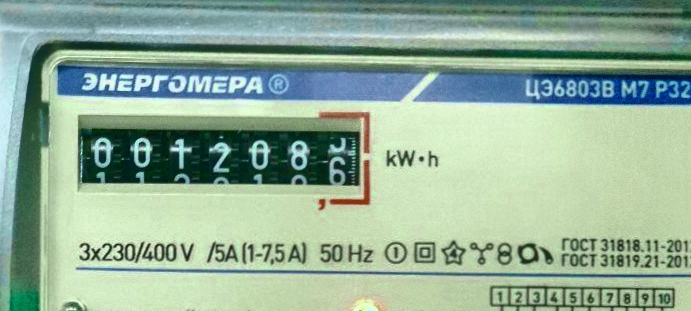0: (247, 135, 272, 170), (130, 131, 153, 168), (92, 132, 112, 169)
1: (171, 133, 188, 170)
2: (208, 138, 234, 173)
6: (325, 151, 348, 186)
8: (286, 136, 309, 172)
screen: (67, 101, 380, 220)
